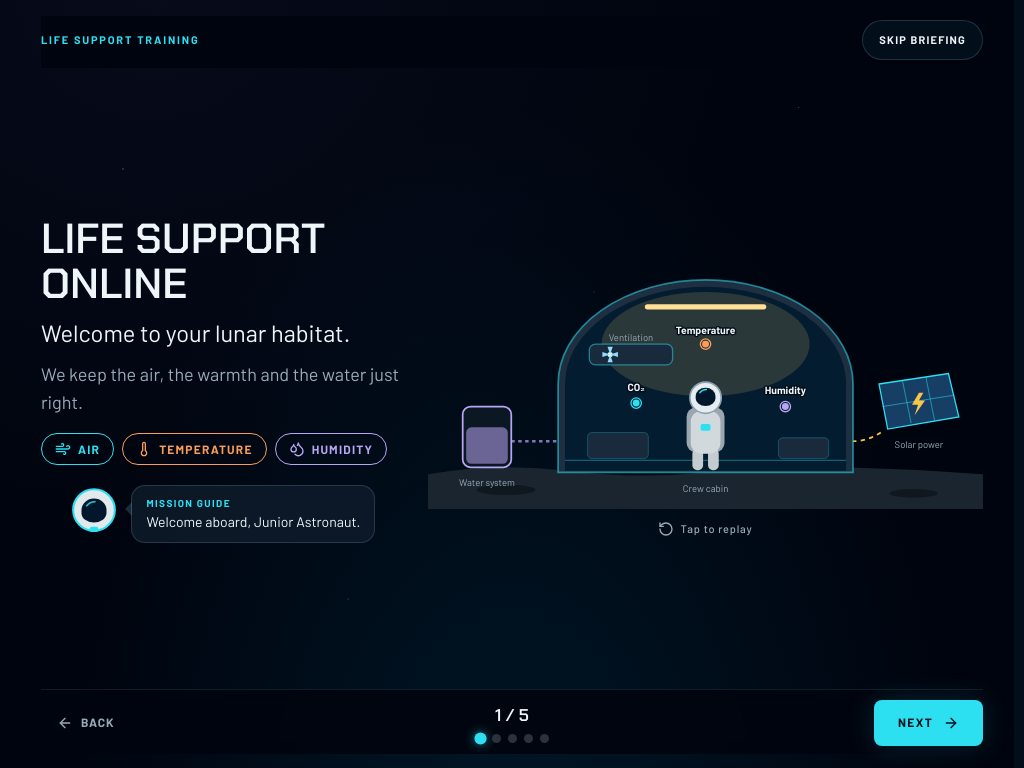
Sound controls › works silently, with no sound controls, where the browser has no speech
Expected: the heading "LIFE SUPPORT ONLINE" is shown, [41,210,325,311]
Click the button "NEXT". click: (928, 723)
box: [874,700,983,746]
Wait 100 ms
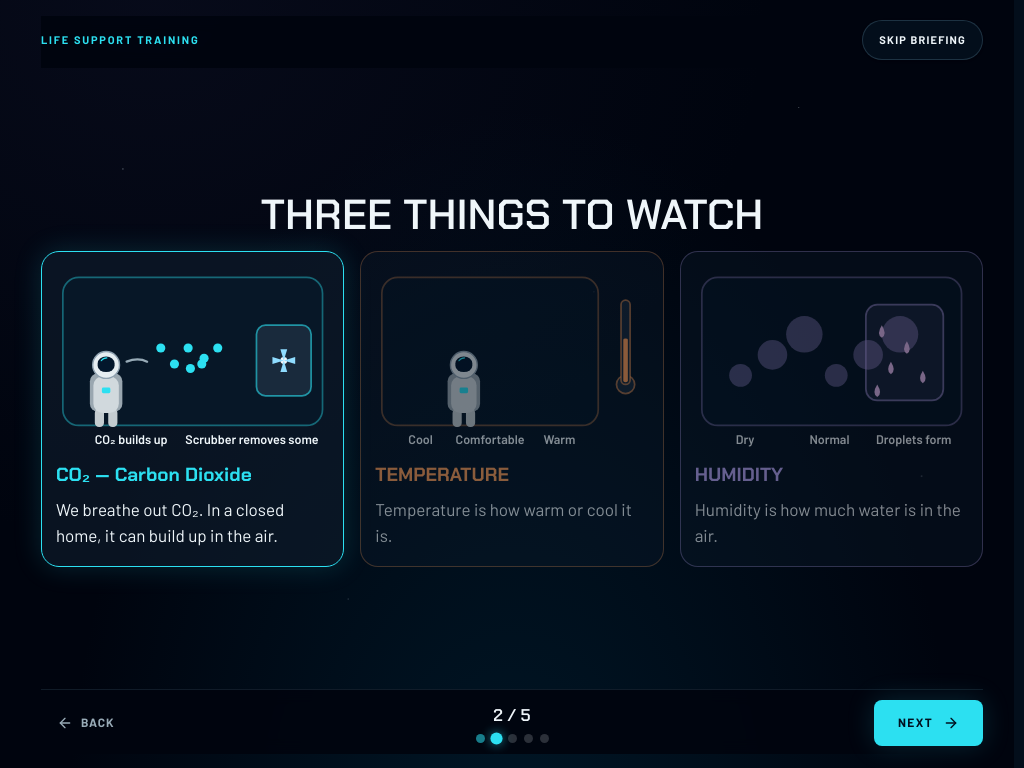
Result: the heading "THREE THINGS TO WATCH" is shown at [261,192,763,237]
